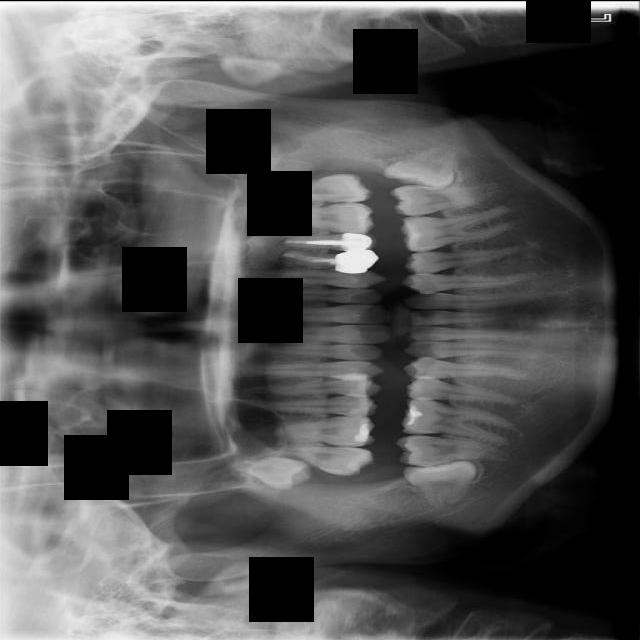3M ESPE Implant: (232, 456, 313, 489)
52: (323, 411, 377, 448), (401, 394, 446, 437), (332, 247, 380, 274), (336, 392, 378, 416), (341, 230, 378, 251)
73: (278, 229, 343, 250), (278, 248, 337, 270), (563, 30, 578, 42)
BioHorizons Implant: (259, 172, 373, 205)
Biomet 3i Implant: (380, 137, 469, 207)
Blue Sky Bio Implant: (390, 181, 504, 217)
Caries: (259, 437, 375, 477)
Implant: (395, 429, 511, 467)
Keystone Dental Implant: (402, 455, 483, 511)
